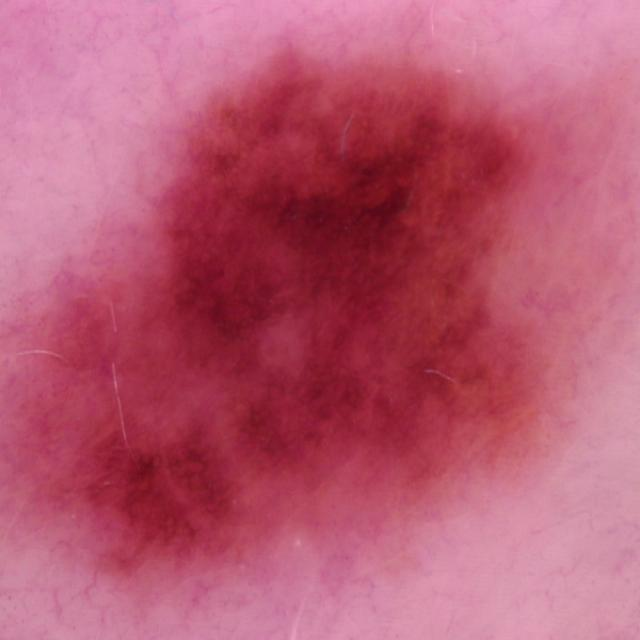NV: (2, 37, 639, 593)
